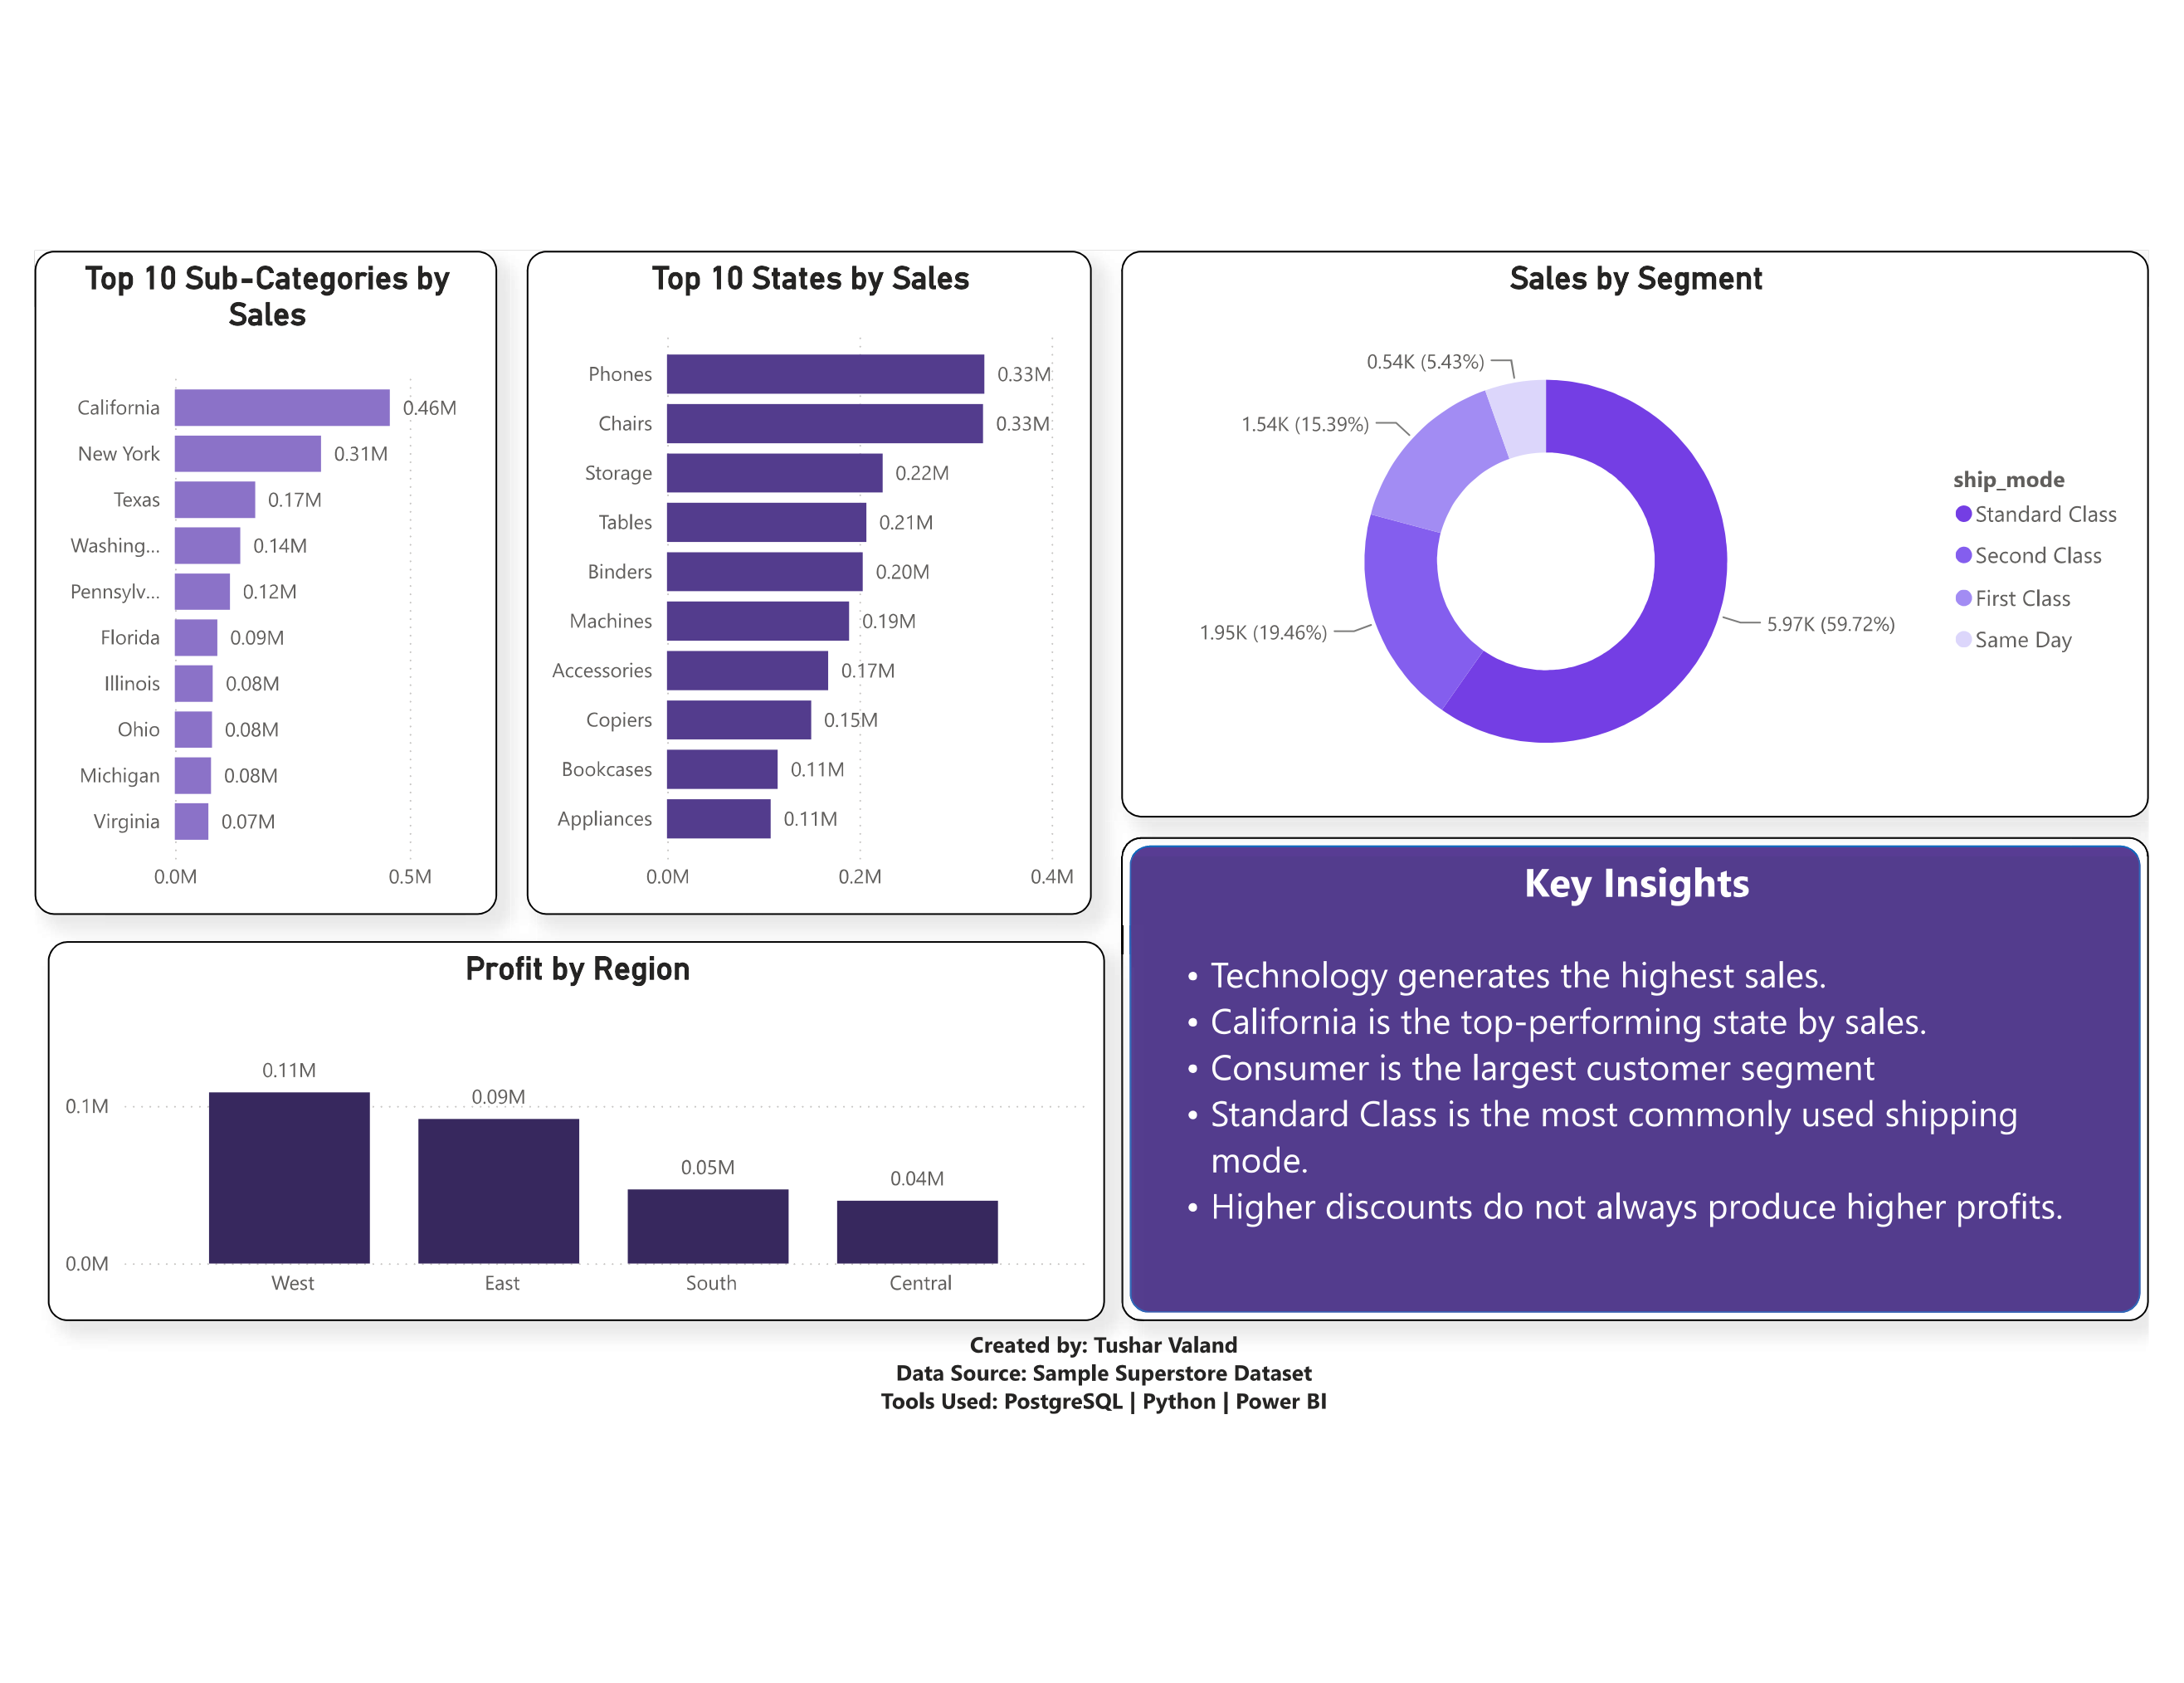

What the dashboard file says about the page in this screenshot:
{"tool":"powerbi","page":{"name":"Page 2","canvas":[1280,720],"ordinal":1},"visuals":[{"type":"shape","box":[658.3,355,621.7,293.3],"z":0},{"type":"textbox","box":[820,360,300,41.7],"z":1000},{"type":"textbox","box":[675,418.3,590,235],"z":2000},{"type":"clusteredBarChart","title":"Top 10 Sub-Categories by Sales","fields":{"Category":["public retail_sales.state"],"Y":["Sum(public retail_sales.sales)"]},"box":[0,0,280,401.7],"z":3000},{"type":"clusteredBarChart","title":"Top 10 States by Sales","fields":{"Category":["public retail_sales.sub_category"],"Y":["Sum(public retail_sales.sales)"]},"box":[298.3,0,341.7,401.7],"z":4000},{"type":"donutChart","title":"Sales by Segment","fields":{"Category":["public retail_sales.ship_mode"],"Y":["CountNonNull(public retail_sales.ship_mode)"]},"box":[658.3,0,621.7,343.3],"z":5000},{"type":"clusteredColumnChart","title":"Profit by Region","fields":{"Category":["public retail_sales.region"],"Y":["Sum(public retail_sales.profit)"]},"box":[8.3,418.3,640,230],"z":6000},{"type":"textbox","box":[15,648.3,1265,71.7],"z":10001}]}

Visuals, with their boxes in screenshot pixels (x1, y1, x2, y2):
shape: bbox=(1131, 838, 2140, 1314)
textbox: bbox=(1393, 846, 1880, 914)
textbox: bbox=(1158, 940, 2116, 1322)
"Top 10 Sub-Categories by Sales" clusteredBarChart: bbox=(62, 261, 517, 914)
"Top 10 States by Sales" clusteredBarChart: bbox=(547, 261, 1101, 914)
"Sales by Segment" donutChart: bbox=(1131, 261, 2140, 819)
"Profit by Region" clusteredColumnChart: bbox=(76, 940, 1114, 1314)
textbox: bbox=(87, 1314, 2140, 1431)
